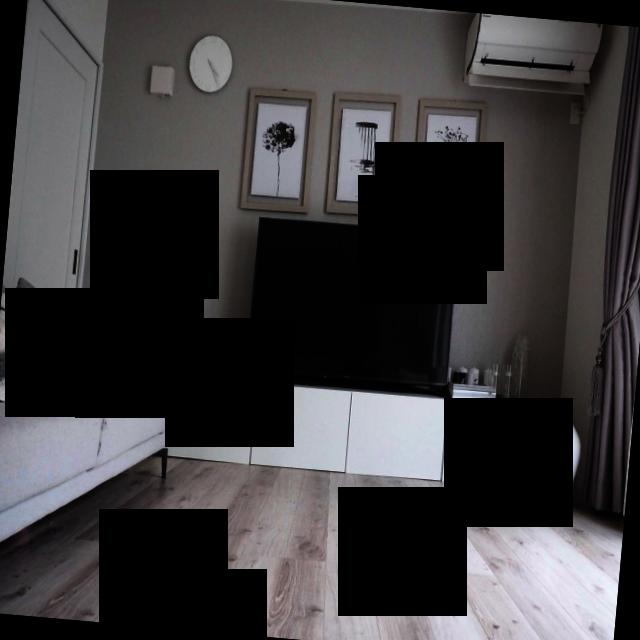white sofa: (0, 262, 189, 603)
